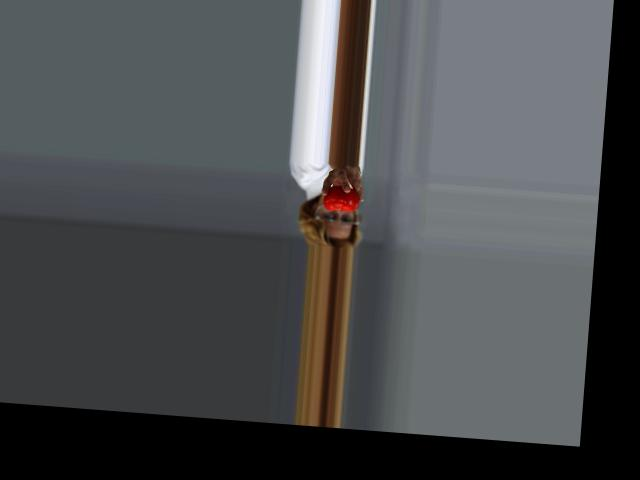tomato: (321, 184, 359, 211)
